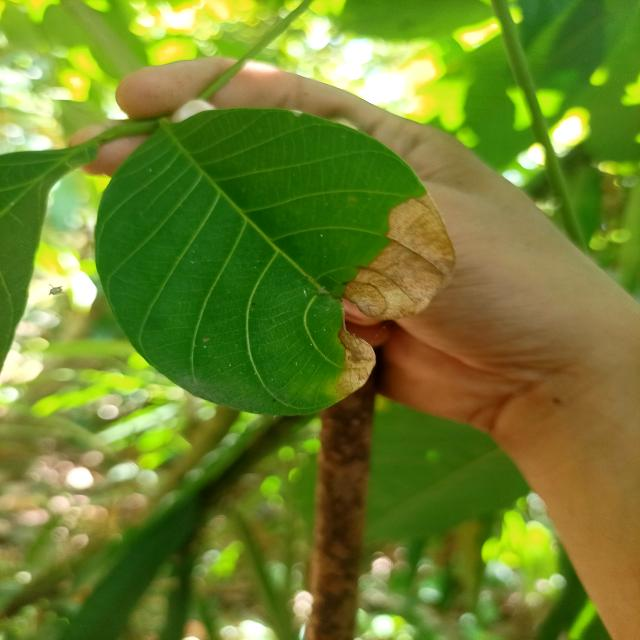Leaf-Blight: (341, 194, 456, 320), (335, 316, 376, 398)
